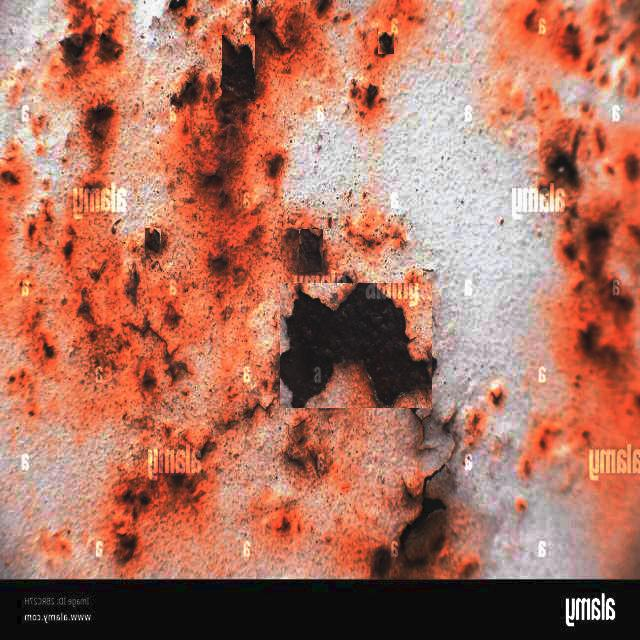Corrosion: (8, 0, 180, 420), (163, 2, 285, 336), (542, 109, 640, 438), (280, 284, 431, 408), (373, 418, 478, 578), (510, 0, 640, 98), (227, 148, 326, 274), (108, 445, 202, 568), (350, 0, 424, 116), (171, 1, 230, 66), (283, 412, 333, 478), (251, 489, 303, 538), (521, 422, 563, 478), (278, 354, 311, 408), (244, 394, 275, 424), (281, 408, 304, 424), (334, 11, 355, 24), (296, 293, 305, 310), (308, 396, 320, 408), (202, 441, 211, 456), (289, 316, 295, 330), (311, 301, 320, 310), (291, 360, 295, 380)
